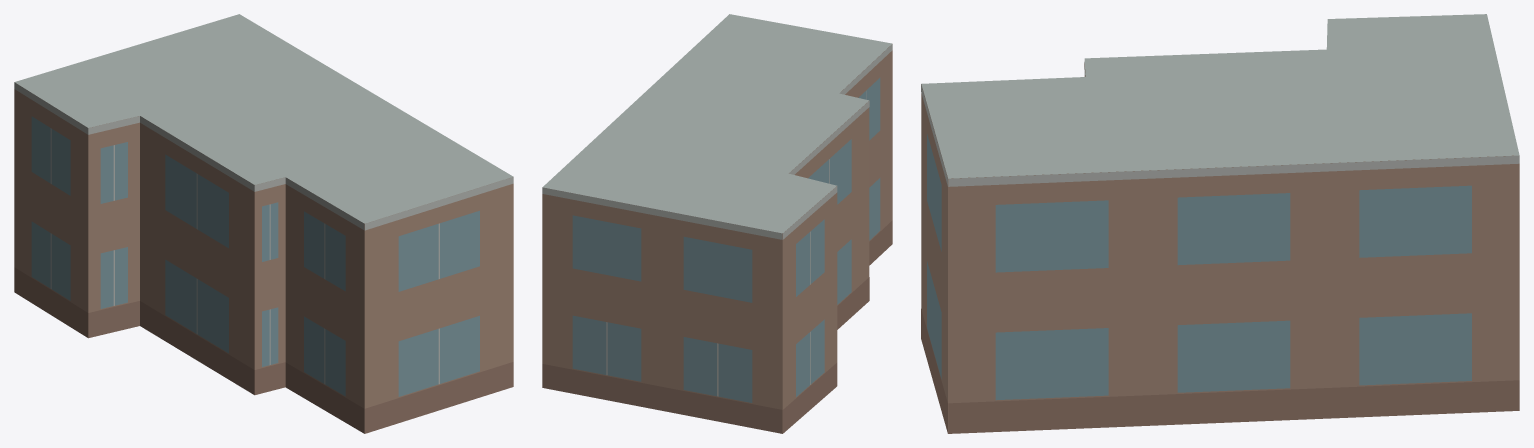
File: survey-upis-32946308.glb
The picture shows the model from 3 angles, left to right: view 1: azimuth 30°, elevation 25°; view 2: azimuth 150°, elevation 25°; view 3: azimuth 270°, elevation 25°; orthographic projection. The views are drawn at different scales.
Visible parts, largest first — view 1: survey-upis-32946308.tmp; view 2: survey-upis-32946308.tmp; view 3: survey-upis-32946308.tmp.
Boxes of the visible parts, x1=… form: survey-upis-32946308.tmp: x1=14, y1=14, x2=513, y2=433; survey-upis-32946308.tmp: x1=542, y1=14, x2=892, y2=433; survey-upis-32946308.tmp: x1=921, y1=14, x2=1519, y2=433.
Bounding box in the file's own units: 10.38 × 7.5 × 15.94.
